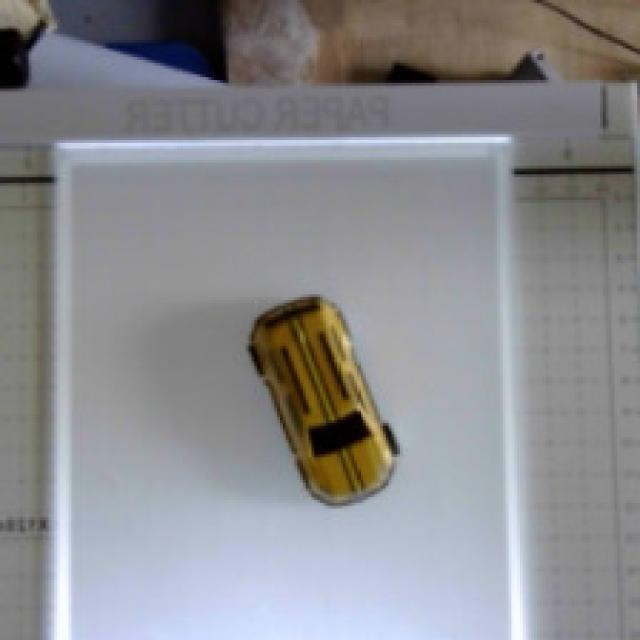Yellow Car: (205, 262, 437, 538)
